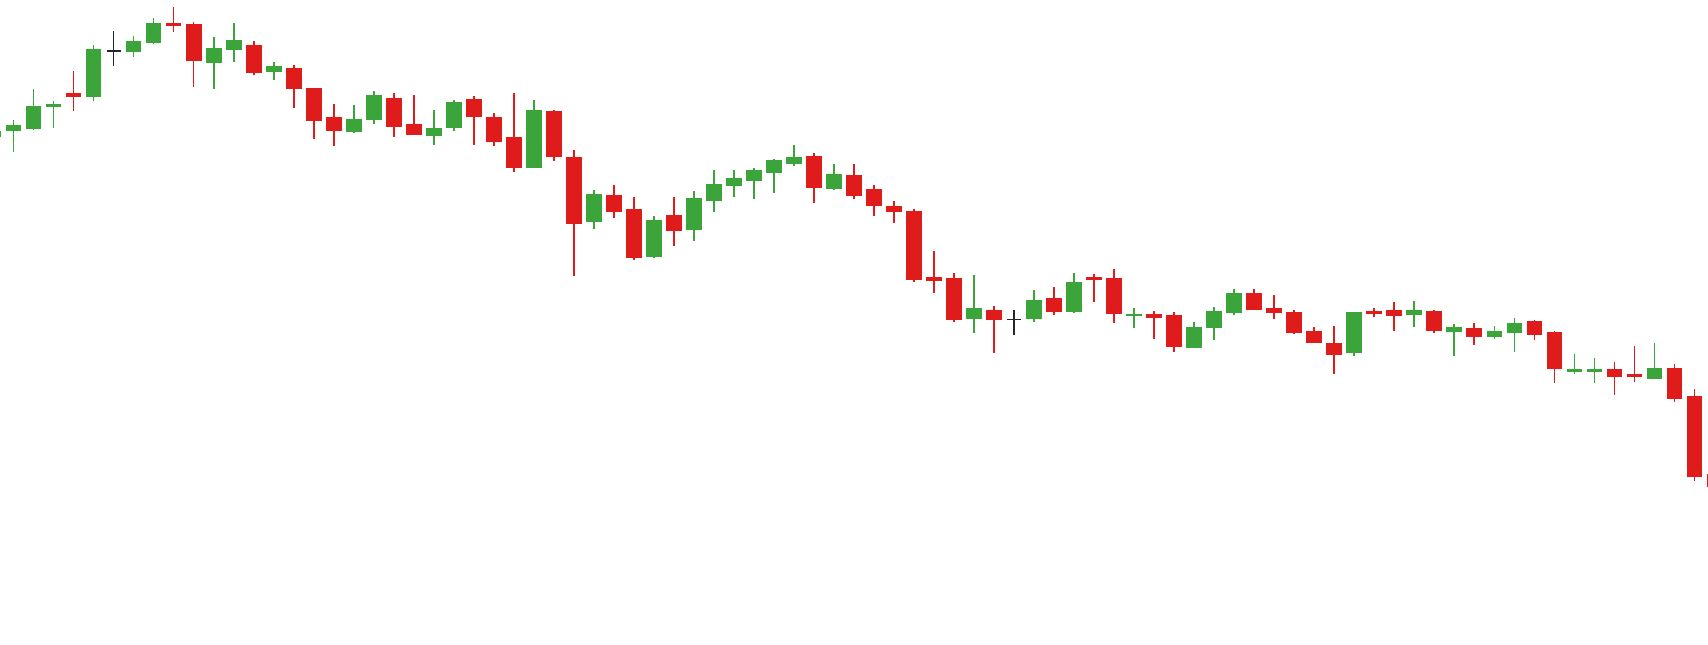buy: (1162, 311, 1364, 376)
